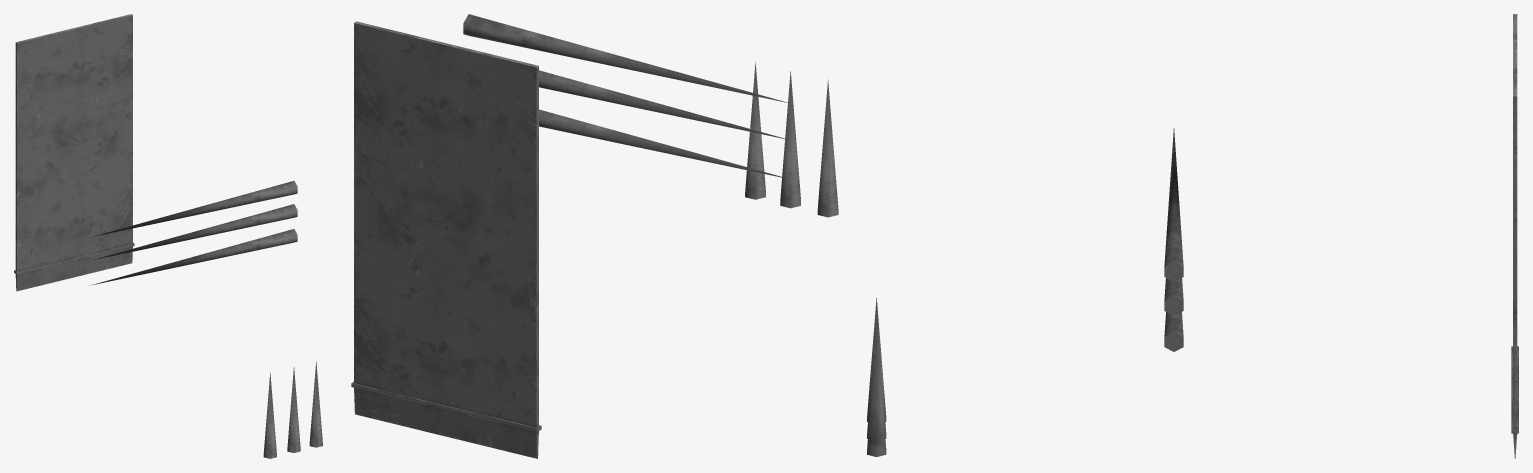
The model's file is cave traps.fbx.
3 views of the same model, side by side, from view 1: azimuth 30°, elevation 25°; view 2: azimuth 150°, elevation 25°; view 3: azimuth 270°, elevation 25° (orthographic). The views are drawn at different scales.
Visible parts, largest first — view 1: blade, side spikes, bottom spikes; view 2: blade, side spikes, bottom spikes; view 3: side spikes, blade, bottom spikes.
Boxes of the visible parts, bbox=[...] form: blade: bbox=[14, 14, 134, 291]; side spikes: bbox=[90, 181, 297, 285]; bottom spikes: bbox=[263, 361, 322, 458]; blade: bbox=[351, 21, 541, 458]; side spikes: bbox=[463, 14, 790, 179]; bottom spikes: bbox=[745, 62, 838, 217]; side spikes: bbox=[1164, 128, 1183, 351]; blade: bbox=[1511, 14, 1518, 458]; bottom spikes: bbox=[867, 298, 886, 456].
Bounding box in the file's own units: 4.13 × 5.01 × 7.77.
